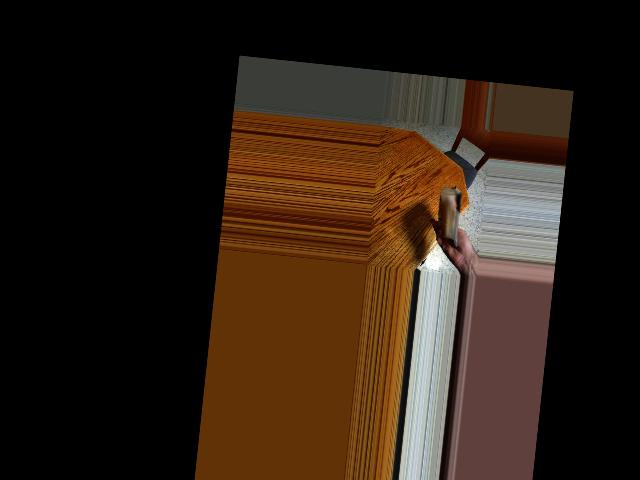cheese: (433, 189, 473, 244)
